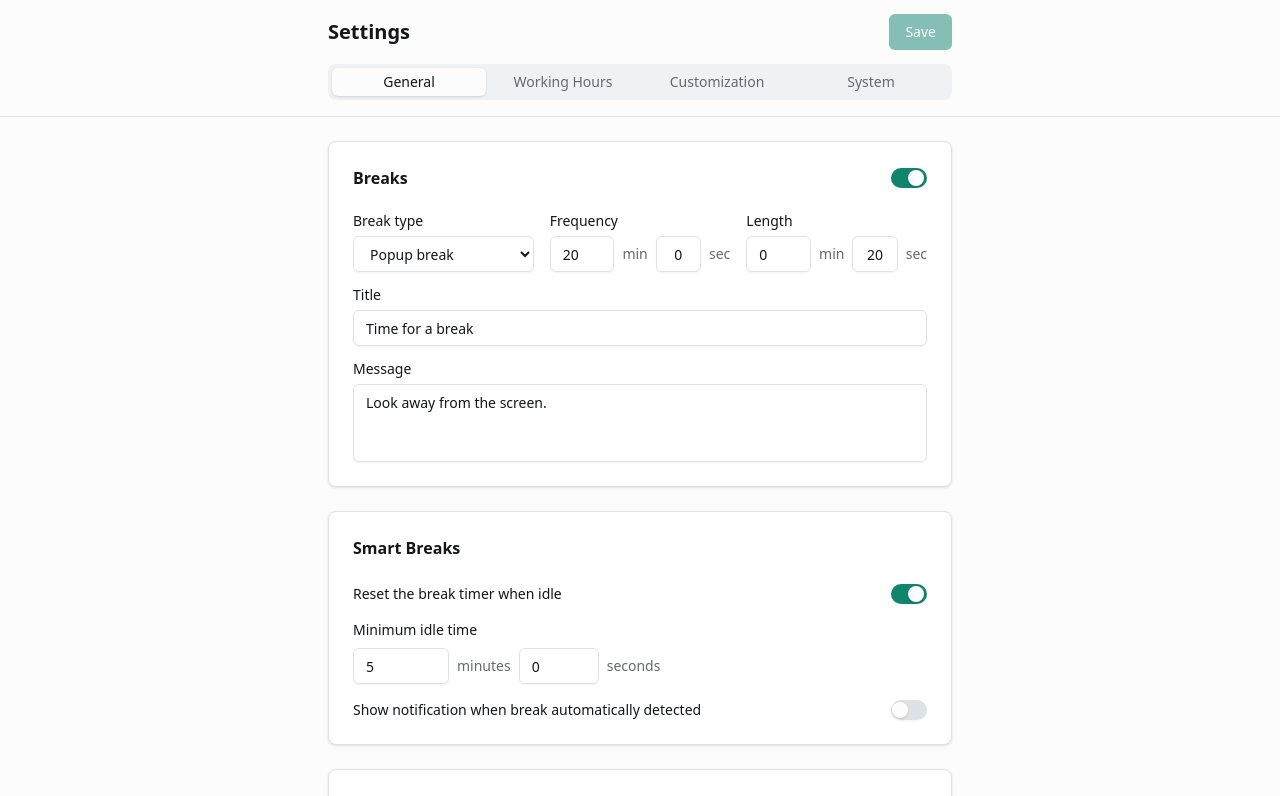
SettingsWindow › saves the edited draft once and clears the dirty state
What coordinates should you click on to do the following:
click the switch named "Breaks enabled"
I would click on:
 (909, 178)
Its box is [891, 168, 927, 188].
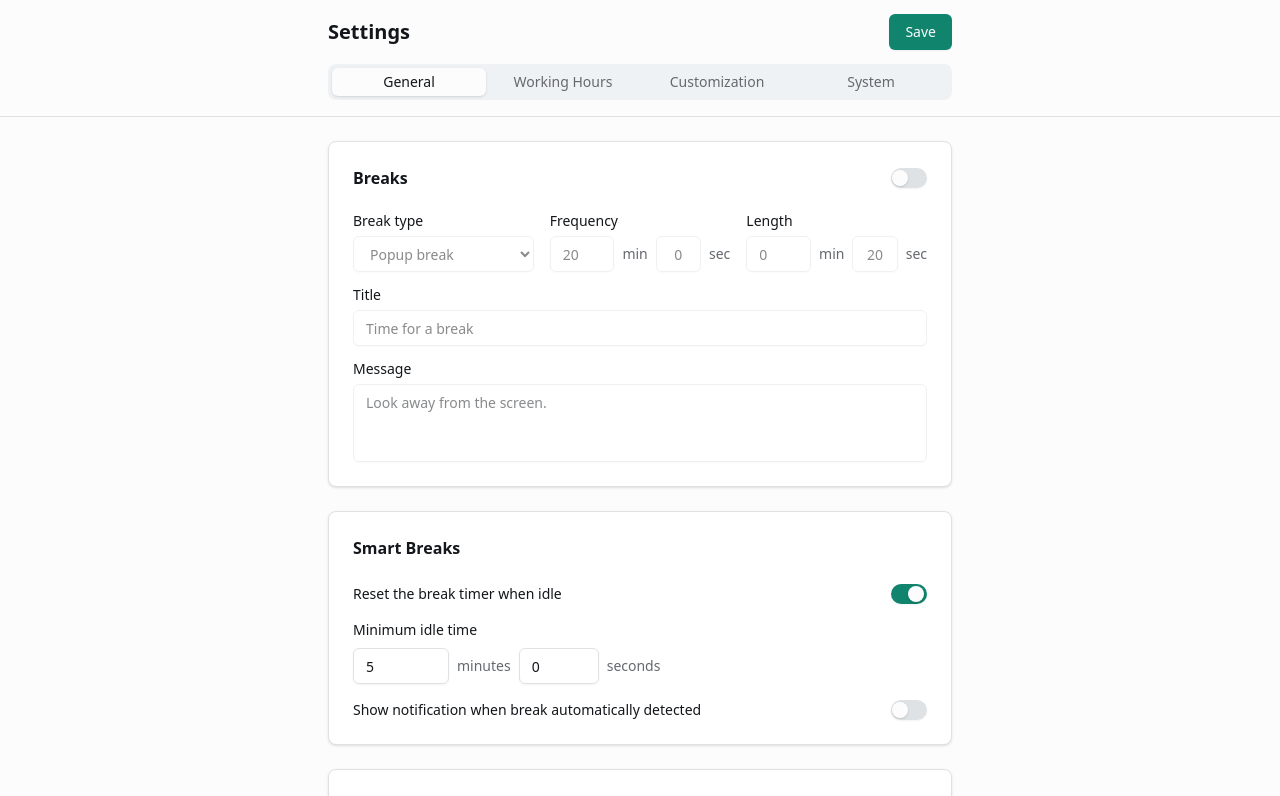
Expected: the button "Save" is enabled
What coordinates should you click on to do the following:
click the button "Save"
I would click on:
 (921, 32)
Its box is [889, 14, 952, 50].
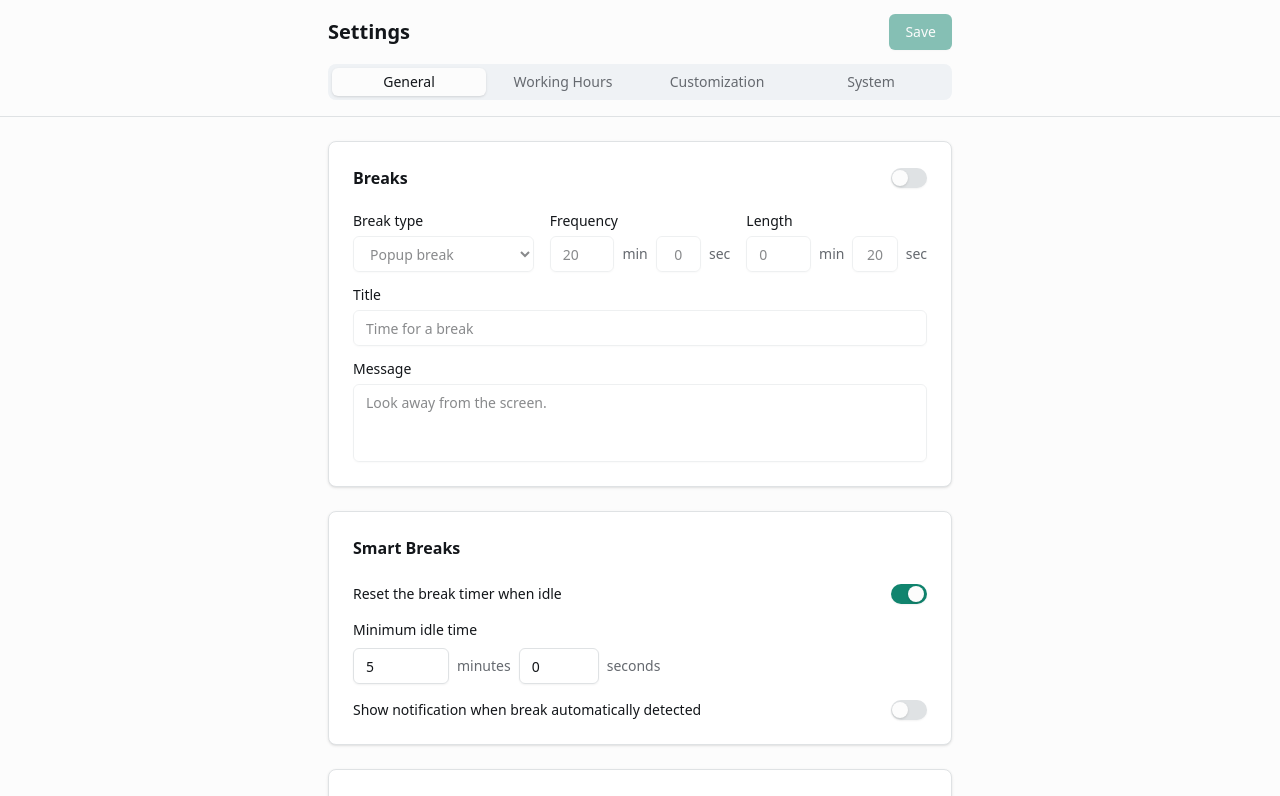
Expected: the button "Save" is disabled, [889, 14, 952, 50]
